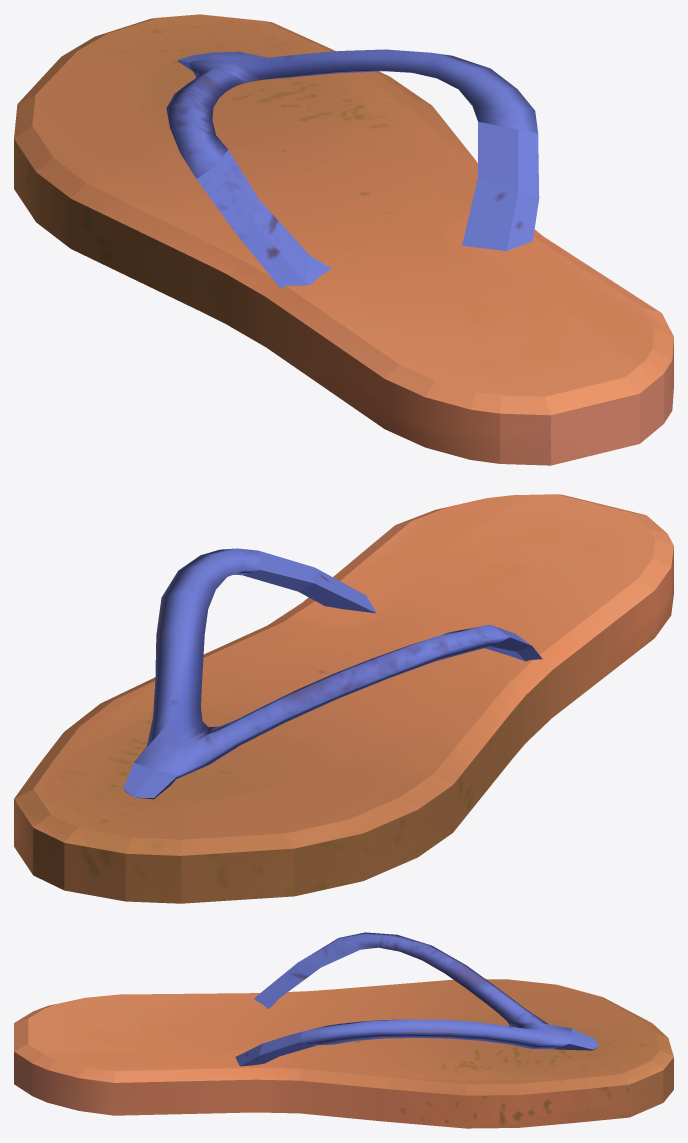
Rendered from orangeFlipFlop_Left.FBX.
The picture shows the model from 3 angles, top to bottom: view 1: azimuth 30°, elevation 25°; view 2: azimuth 150°, elevation 25°; view 3: azimuth 270°, elevation 25°; orthographic projection. The views are drawn at different scales.
Parts seen in each view (by area): view 1: orangeFlipFlop_Left; view 2: orangeFlipFlop_Left; view 3: orangeFlipFlop_Left.
Part boxes in pixels (x1,y1,x2,y2): orangeFlipFlop_Left: (14, 14, 673, 465); orangeFlipFlop_Left: (14, 494, 673, 903); orangeFlipFlop_Left: (14, 932, 673, 1128).
Bounding box in the file's own units: 12.33 × 4.84 × 29.53.
1 material, 1 textured.
